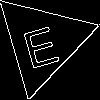E: (18, 16, 62, 69)
